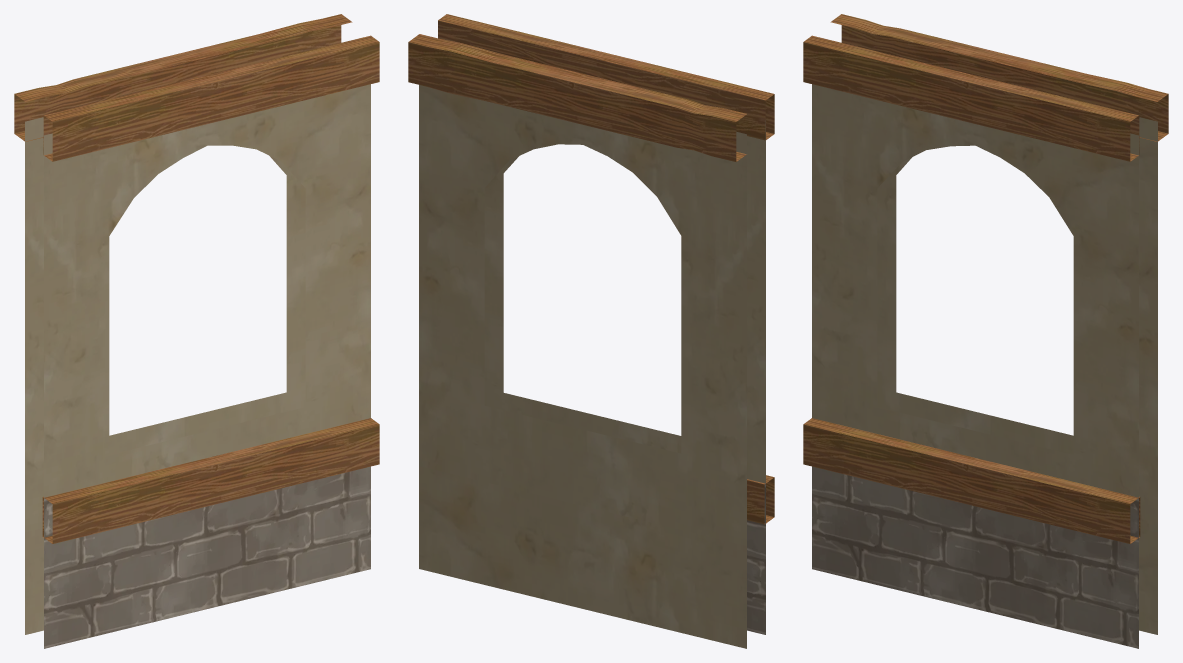
The model's file is Wall_Plaster_Window_Wide_Round.glb.
3 renders of one model, left to right at view 1: azimuth 30°, elevation 25°; view 2: azimuth 150°, elevation 25°; view 3: azimuth 330°, elevation 25°, orthographic.
Visible parts, largest first — view 1: Wall_Plaster_Window_Wide_Round; view 2: Wall_Plaster_Window_Wide_Round; view 3: Wall_Plaster_Window_Wide_Round.
Part boxes in pixels (x1,y1,x2,y2): Wall_Plaster_Window_Wide_Round: (14,14,379,648); Wall_Plaster_Window_Wide_Round: (408,14,774,648); Wall_Plaster_Window_Wide_Round: (803,14,1168,648).
Bounding box in the file's own units: 2 × 3.12 × 0.4065.
Materials: 3 (3 with a texture image).
